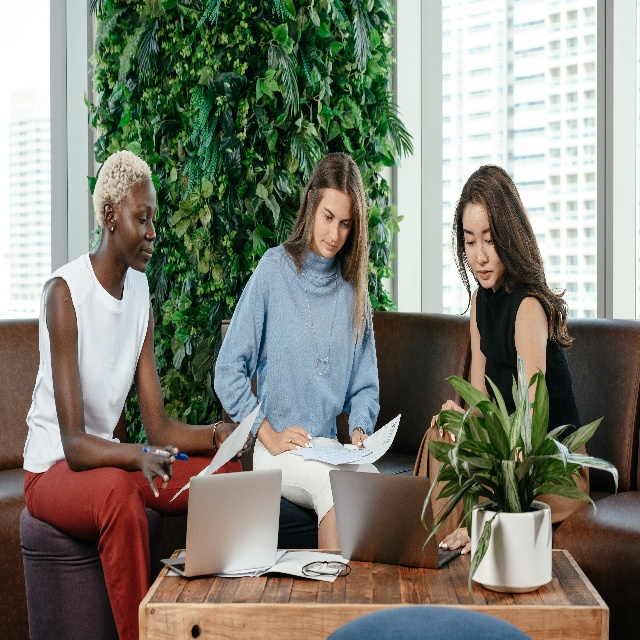Gafas: (300, 561, 351, 583)
Sin_guantes: (143, 442, 177, 498), (430, 396, 465, 444), (272, 425, 313, 456), (219, 421, 252, 457), (437, 525, 471, 555), (352, 428, 368, 446)
